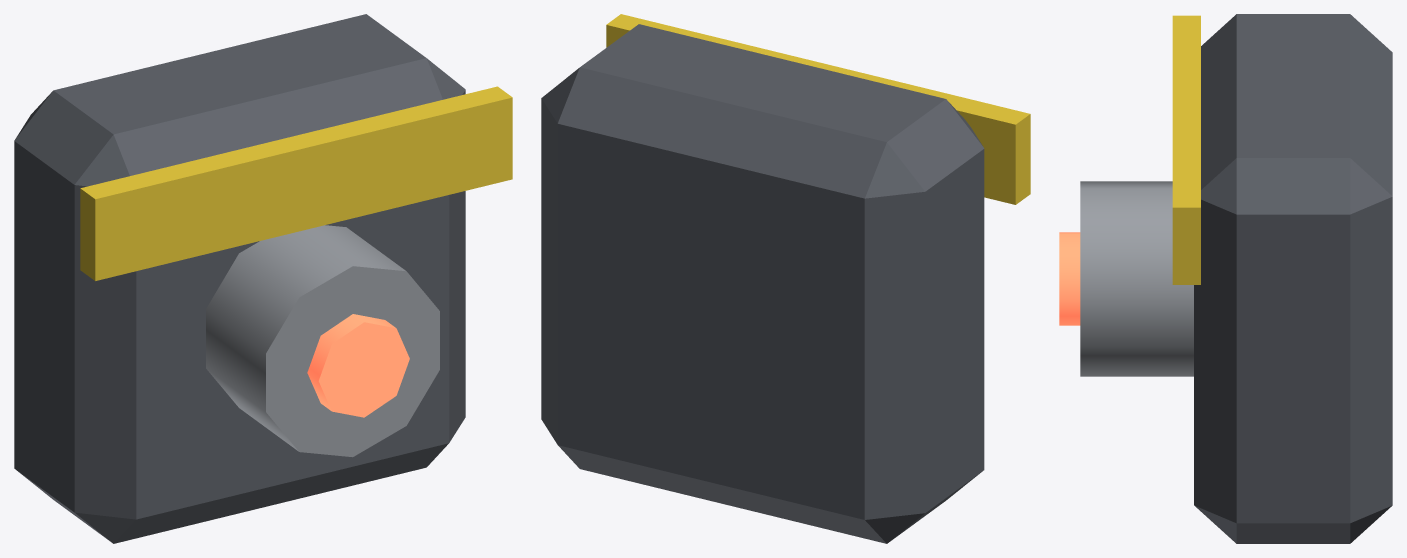
The model's file is trap_laser.glb.
The picture shows the model from 3 angles, left to right: view 1: azimuth 30°, elevation 25°; view 2: azimuth 150°, elevation 25°; view 3: azimuth 270°, elevation 25°; orthographic projection. The views are drawn at different scales.
Parts seen in each view (by area): view 1: trap_laser; view 2: trap_laser; view 3: trap_laser.
Part boxes in pixels (x1,y1,x2,y2): trap_laser: (14, 14, 512, 543); trap_laser: (541, 14, 1030, 543); trap_laser: (1059, 14, 1392, 543).
Size of the model in its own units: 0.32 by 0.3 by 0.235.
